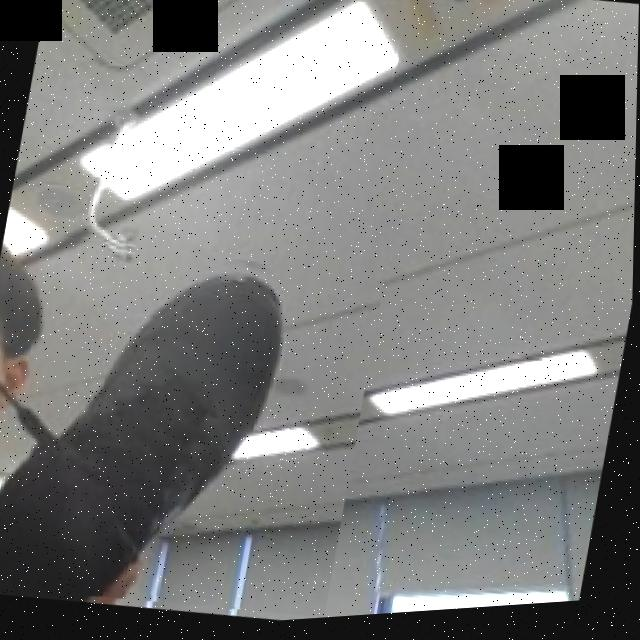shoe: (0, 207, 390, 640)
